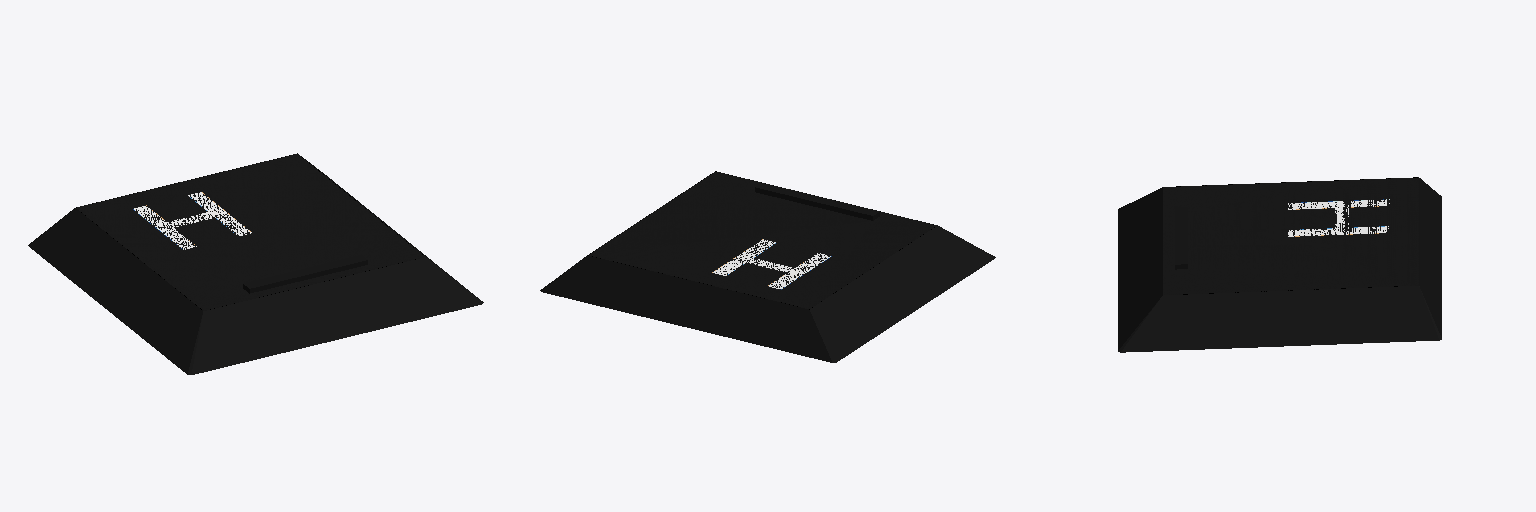
3 views of the same model, side by side, from view 1: azimuth 30°, elevation 25°; view 2: azimuth 150°, elevation 25°; view 3: azimuth 270°, elevation 25° (orthographic).
Visible parts, largest first — view 1: Group14/mesh12/mesh12-geometry#mesh12-geometry; view 2: Group14/mesh12/mesh12-geometry#mesh12-geometry; view 3: Group14/mesh12/mesh12-geometry#mesh12-geometry.
Boxes of the visible parts, box(x1,y1,x2,y2) form: Group14/mesh12/mesh12-geometry#mesh12-geometry: box(28, 153, 483, 374); Group14/mesh12/mesh12-geometry#mesh12-geometry: box(540, 171, 995, 362); Group14/mesh12/mesh12-geometry#mesh12-geometry: box(1118, 177, 1441, 352).
Bounding box in the file's own units: 0.0754 × 0.0119 × 0.0715.
Materials: 2 (1 with a texture image).